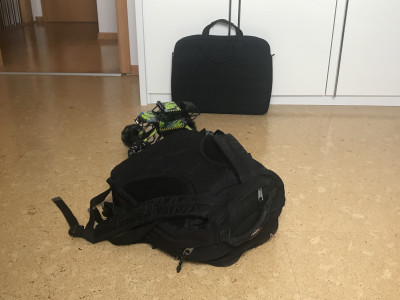remote control car: (118, 98, 208, 154)
